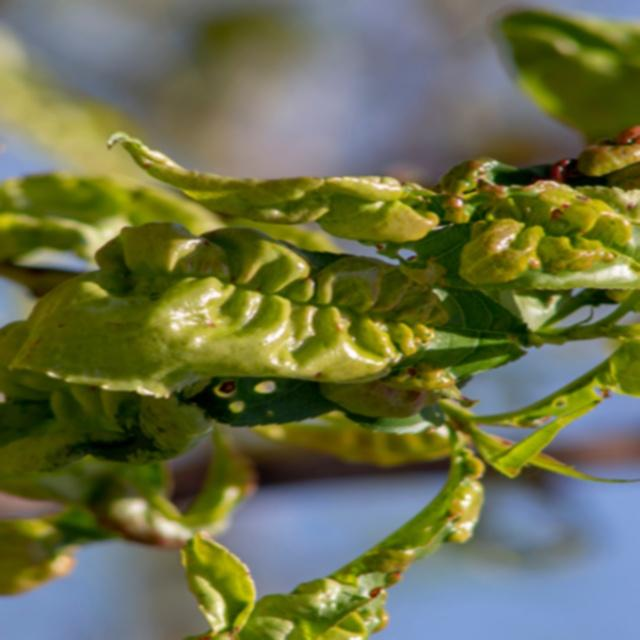leaf_curl: (8, 45, 495, 419), (129, 441, 498, 640)
